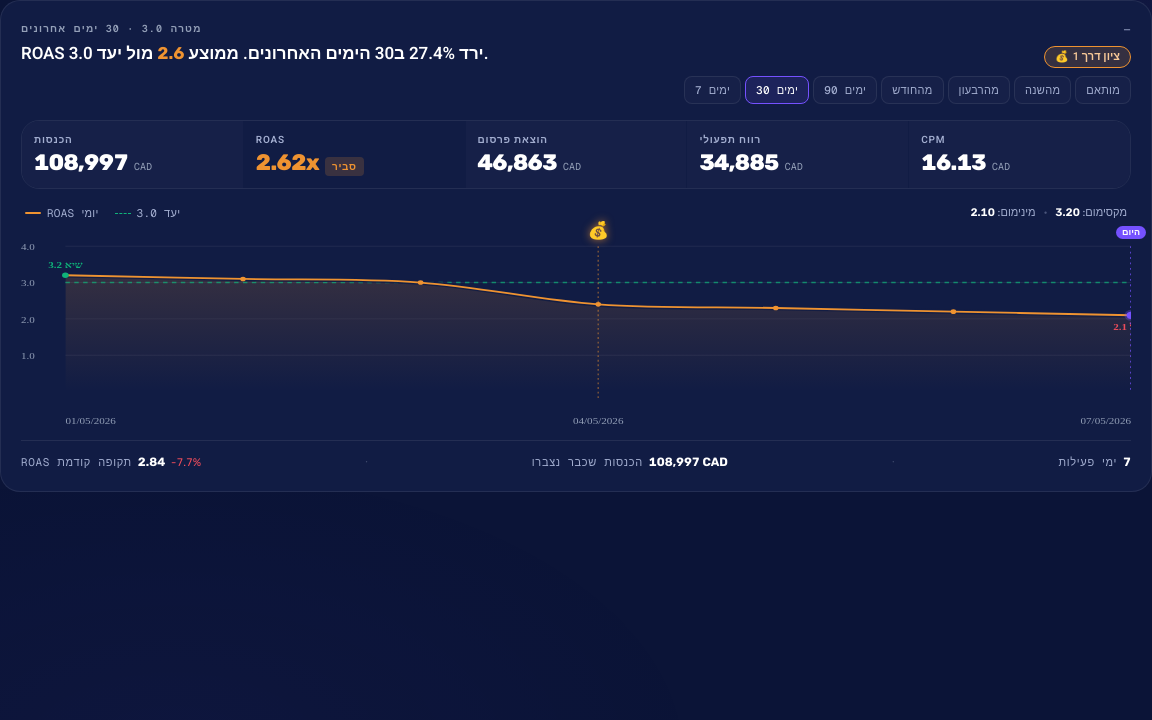
Test: <RoasTargetChart> › clicking a pin opens its tooltip
Click the button with test id "chart-pin-refund-05-04".
click(598, 230)  # box [588,222,609,238]
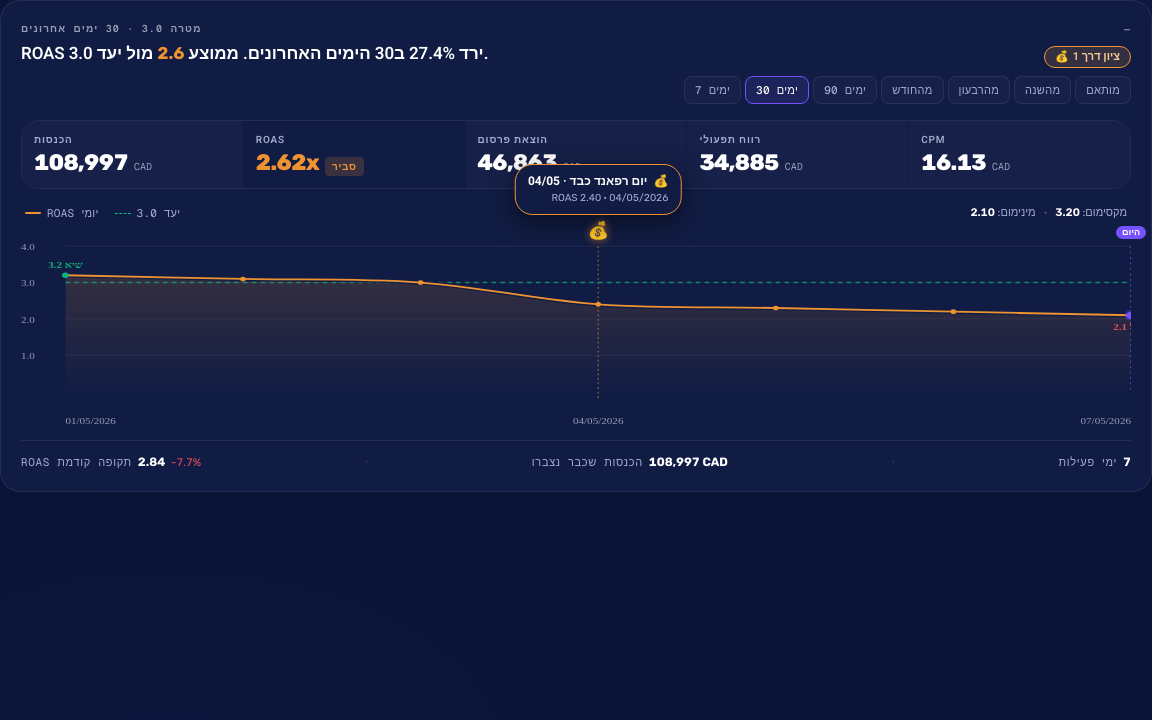
Check: the tooltip with test id "chart-pin-tooltip-refund-05-04" is shown, box [515,164,681,215]
